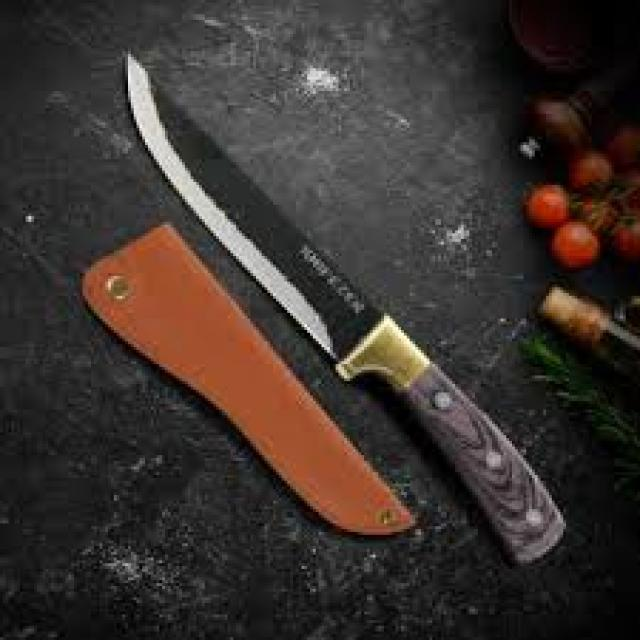Knife: (128, 51, 563, 560)
